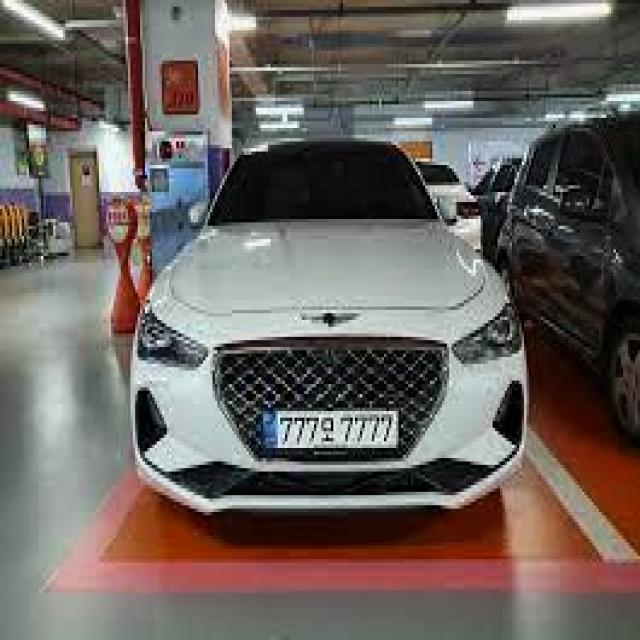car: (128, 122, 532, 541)
illegal_plate: (263, 407, 398, 459)
